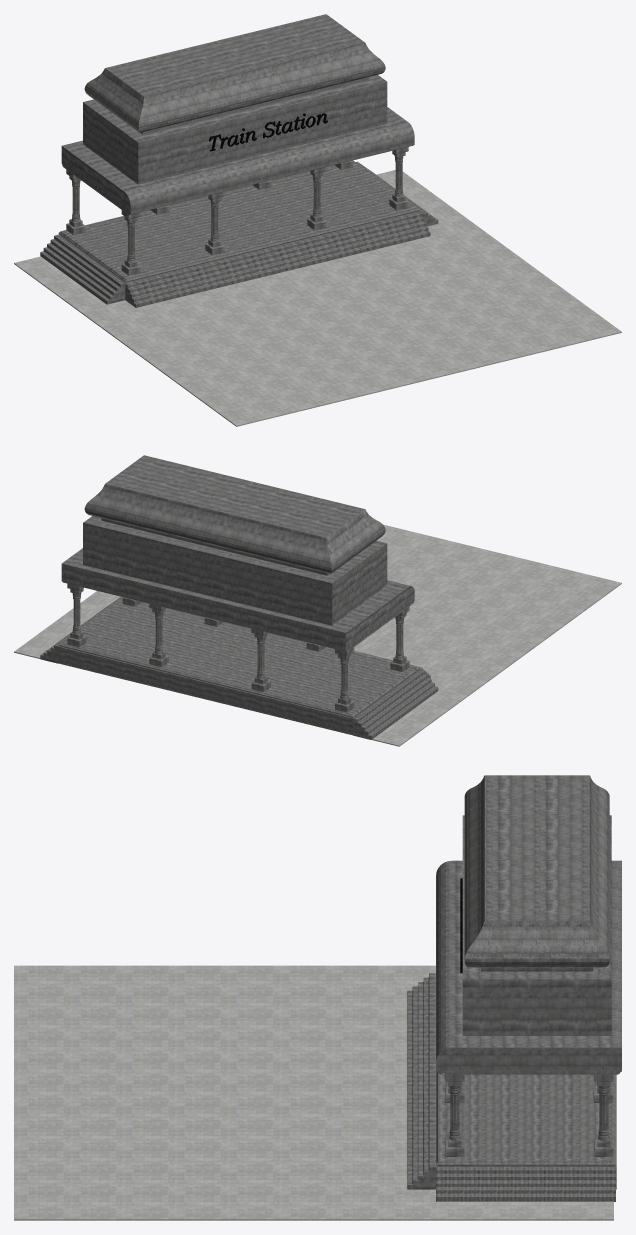
3 views of the same model, one above another, from view 1: azimuth 30°, elevation 25°; view 2: azimuth 150°, elevation 25°; view 3: azimuth 270°, elevation 25° (orthographic). The views are drawn at different scales.
Visible parts, largest first — view 1: Floor, Upper Part, Rasied Floor, Stairs, Stairs.002, Text; view 2: Upper Part, Floor, Rasied Floor, Stairs.002, Stairs.001; view 3: Floor, Upper Part, Rasied Floor, Stairs.001, Stairs.
Boxes of the visible parts, x1=… form: Floor: x1=14, y1=170, x2=621, y2=426; Upper Part: x1=61, y1=14, x2=414, y2=214; Rasied Floor: x1=58, y1=161, x2=419, y2=283; Stairs: x1=125, y1=211, x2=430, y2=307; Stairs.002: x1=40, y1=234, x2=125, y2=304; Text: x1=208, y1=113, x2=328, y2=151; Upper Part: x1=61, y1=455, x2=414, y2=651; Floor: x1=14, y1=524, x2=621, y2=746; Rasied Floor: x1=58, y1=598, x2=419, y2=735; Stairs.002: x1=353, y1=669, x2=438, y2=739; Stairs.001: x1=40, y1=597, x2=122, y2=663; Floor: x1=14, y1=965, x2=613, y2=1220; Upper Part: x1=436, y1=775, x2=621, y2=1074; Rasied Floor: x1=436, y1=1072, x2=616, y2=1189; Stairs.001: x1=436, y1=1167, x2=615, y2=1201; Stairs: x1=407, y1=973, x2=435, y2=1189.
Bounding box in the file's own units: 40 × 18.09 × 40.54.
Materials: 3 (2 with a texture image).
